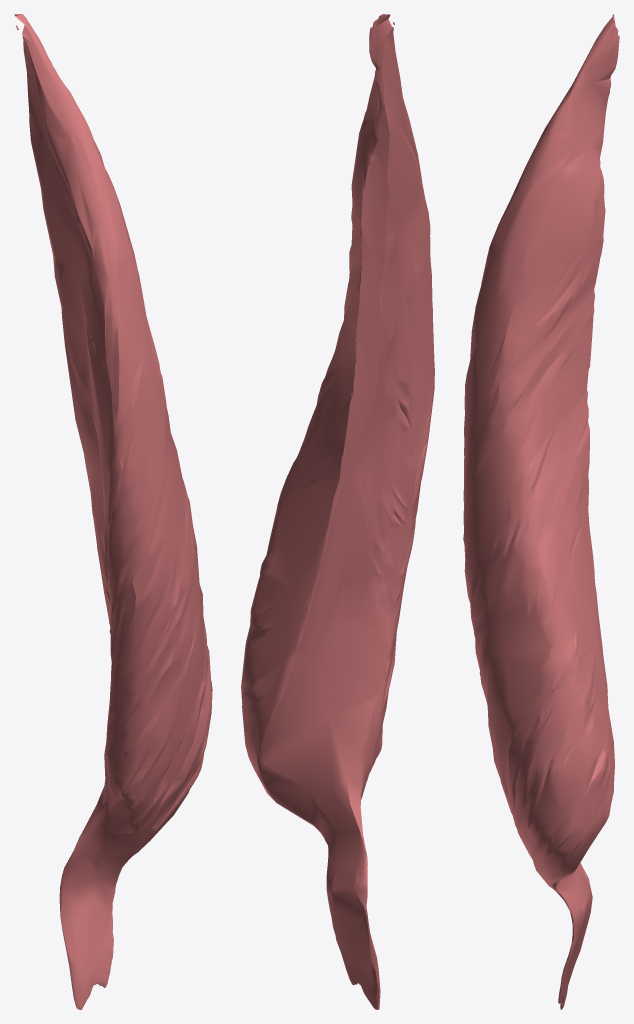
The picture shows the model from 3 angles, left to right: view 1: azimuth 30°, elevation 25°; view 2: azimuth 150°, elevation 25°; view 3: azimuth 270°, elevation 25°; orthographic projection. The views are drawn at different scales.
Visible parts, largest first — view 1: FJ1443; view 2: FJ1443; view 3: FJ1443.
Boxes of the visible parts, x1,y1,x2,y2 form: FJ1443: [14, 14, 212, 1009]; FJ1443: [241, 14, 434, 1009]; FJ1443: [463, 14, 619, 1009].
Bounding box in the file's own units: 0.0703 × 0.3955 × 0.0575.
